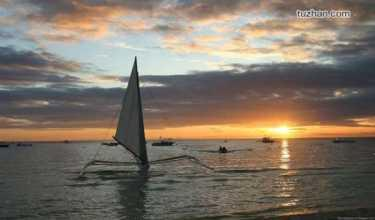fanchuan: (76, 52, 165, 182)
